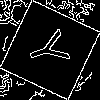Y: (25, 25, 79, 72)
